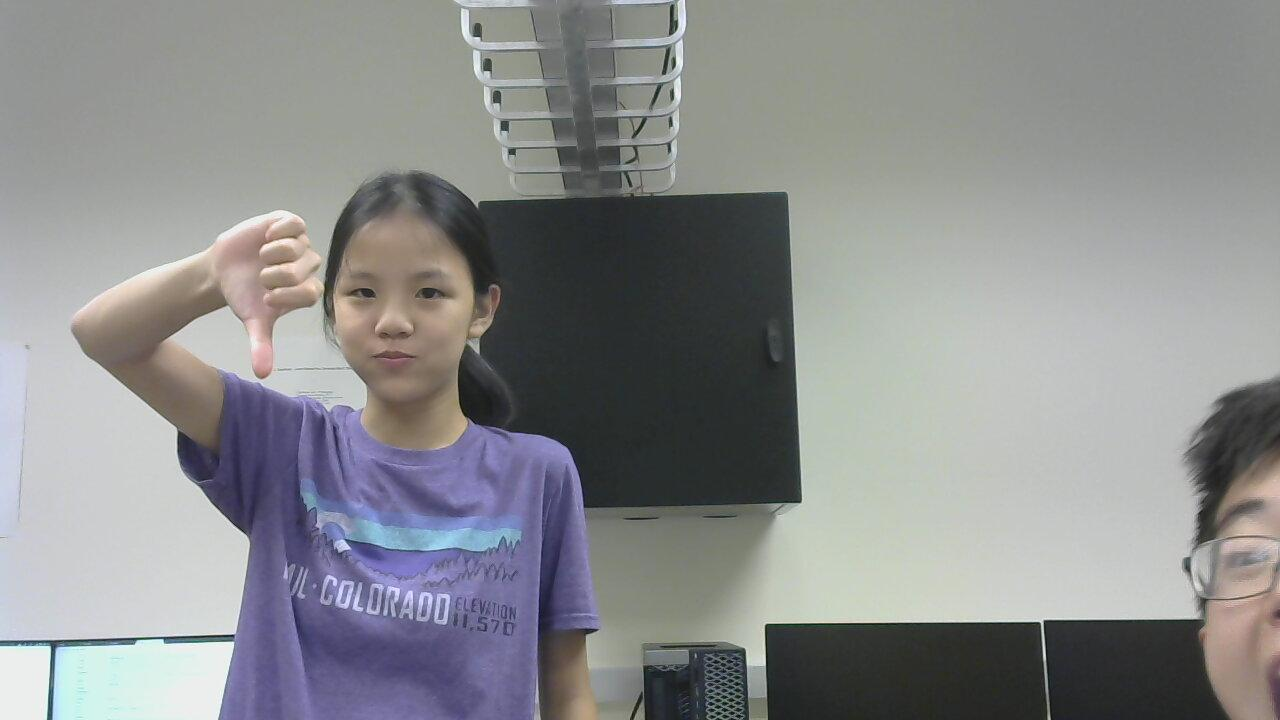hands: (206, 201, 325, 390)
